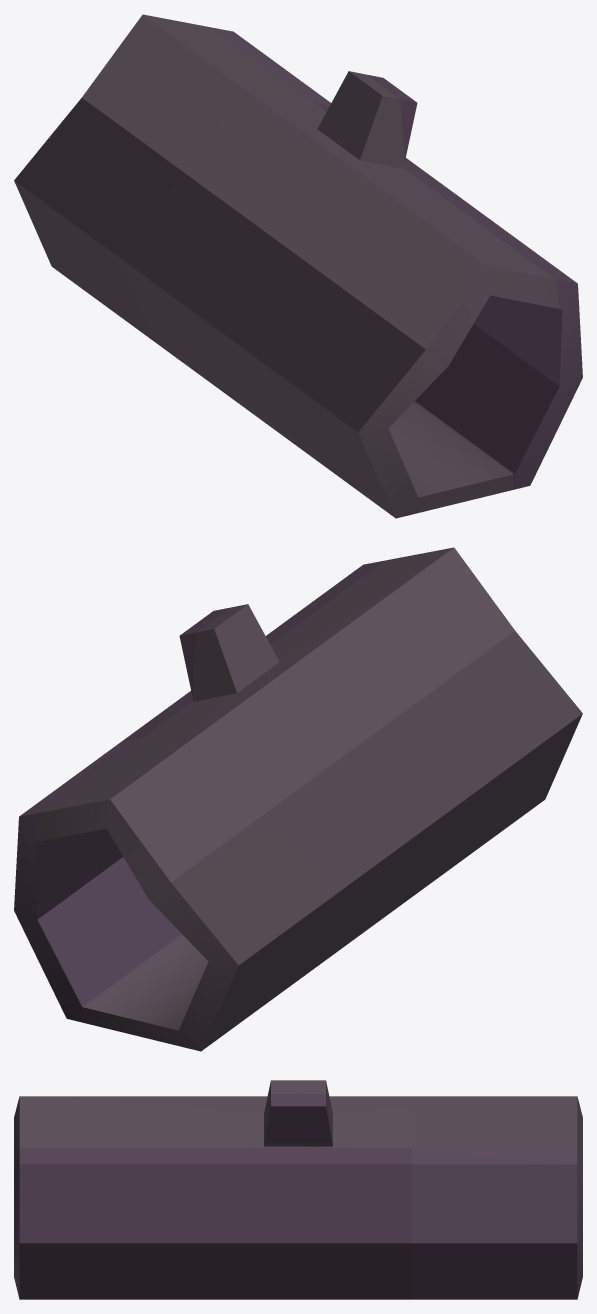
File: SS_Log2.fbx
The picture shows the model from 3 angles, top to bottom: view 1: azimuth 30°, elevation 25°; view 2: azimuth 150°, elevation 25°; view 3: azimuth 270°, elevation 25°; orthographic projection. The views are drawn at different scales.
Visible parts, largest first — view 1: Log2; view 2: Log2; view 3: Log2.
Part boxes in pixels (left/top/right/bottom): Log2: left=14, top=14, right=582, bottom=518; Log2: left=14, top=547, right=582, bottom=1051; Log2: left=14, top=1080, right=582, bottom=1299.
Size of the model in its own units: 1.64 by 1.92 by 4.45.
